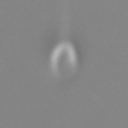normal: (50, 1, 83, 39)
